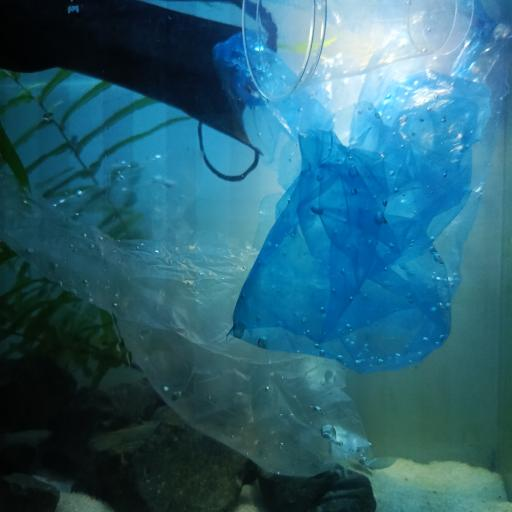mask: (1, 0, 276, 182)
plastic_bag: (0, 168, 373, 476), (213, 0, 512, 370)
plastic_cup: (238, 0, 473, 102)
